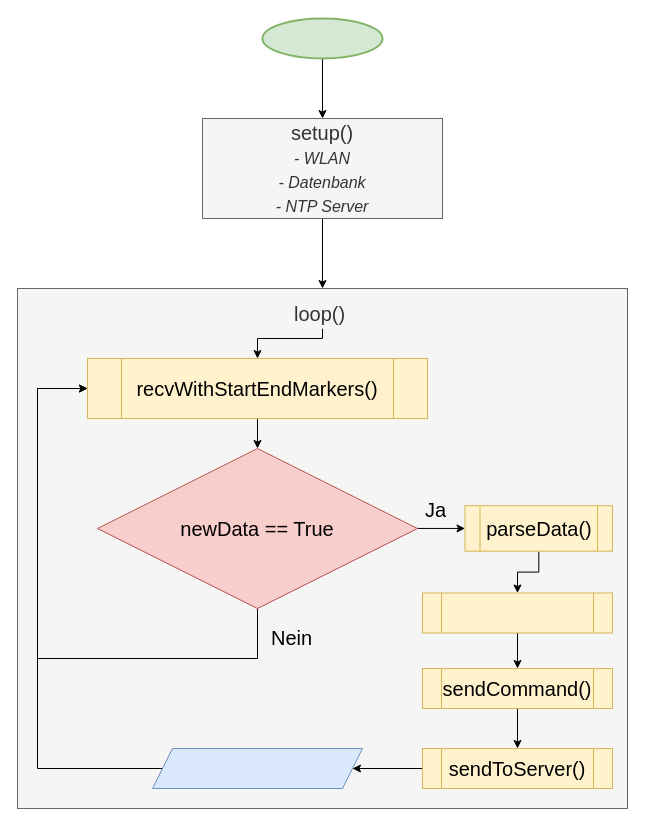
The diagram is 645 pixels wide and 826 high, and some of its shapes have lost their labels. Each missing label, with the centre of its shape:
getGridPower(): (x=517, y=612)
newData == False: (x=257, y=768)
Start: (x=322, y=38)
